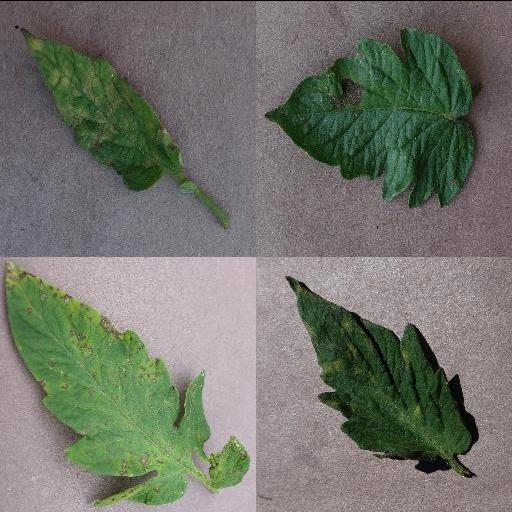Early Blight: (263, 26, 477, 208)
Leaf Mold: (289, 279, 477, 459), (23, 29, 181, 191)
Septoria: (2, 260, 212, 506)
